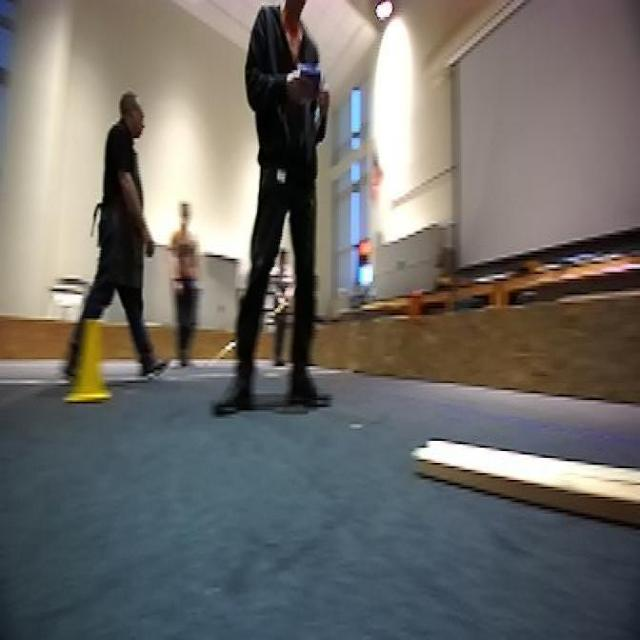frc_cone: (65, 318, 114, 402)
